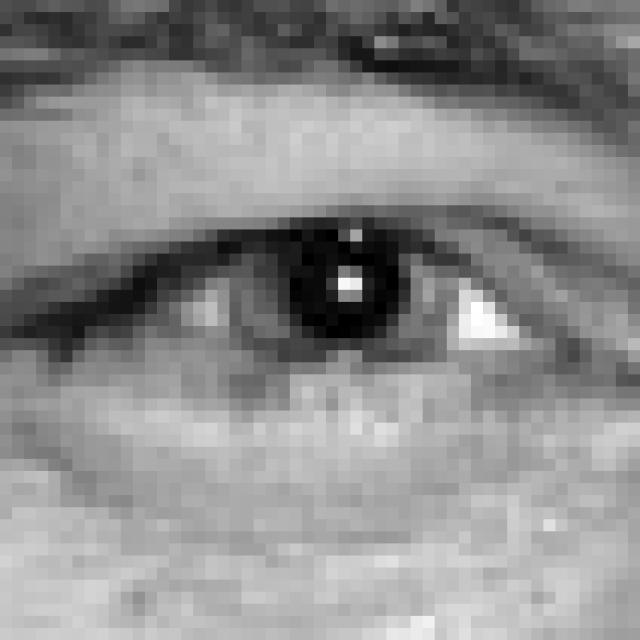eye: (10, 145, 633, 496)
gaze: (208, 196, 476, 388)
